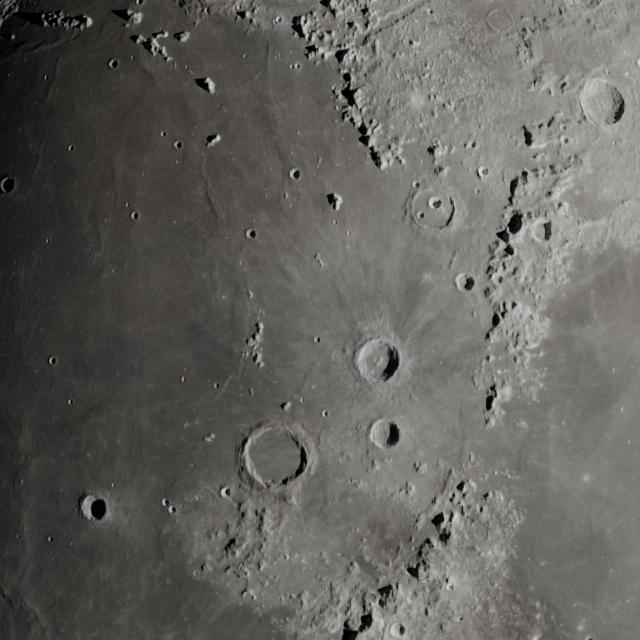crater: (240, 426, 313, 491), (574, 77, 628, 128), (354, 335, 404, 389), (367, 420, 406, 451), (78, 493, 110, 522), (455, 272, 475, 296)
rock: (407, 479, 482, 588), (290, 8, 382, 90), (335, 92, 405, 174), (121, 10, 194, 64), (470, 294, 532, 344), (340, 582, 396, 636), (210, 534, 258, 594), (482, 375, 513, 423), (40, 10, 94, 32), (236, 2, 264, 30), (200, 76, 218, 94)
